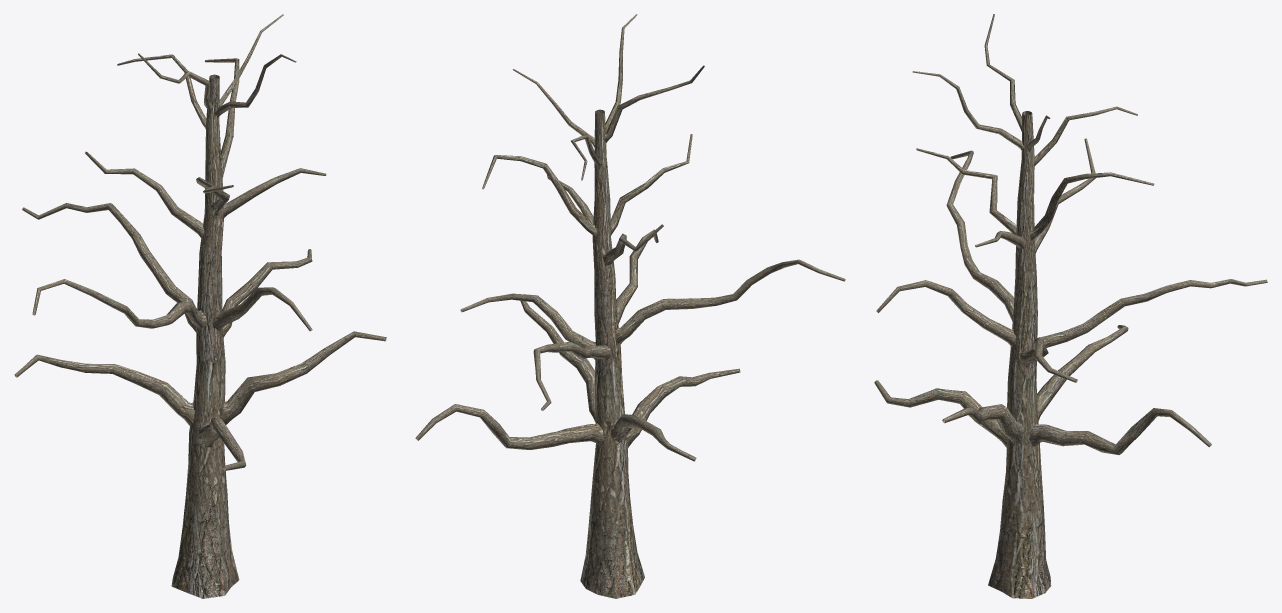
Rendered from desert_tree.glb.
The picture shows the model from 3 angles, left to right: view 1: azimuth 30°, elevation 25°; view 2: azimuth 150°, elevation 25°; view 3: azimuth 270°, elevation 25°; orthographic projection. The views are drawn at different scales.
Visible parts, largest first — view 1: tree_01; view 2: tree_01; view 3: tree_01.
Part boxes in pixels (left/top/right/bottom): tree_01: left=14, top=14, right=386, bottom=598; tree_01: left=415, top=14, right=845, bottom=598; tree_01: left=874, top=14, right=1267, bottom=598.
Size of the model in its own units: 0.1828 by 0.2796 by 0.1867.
1 material, 1 textured.
